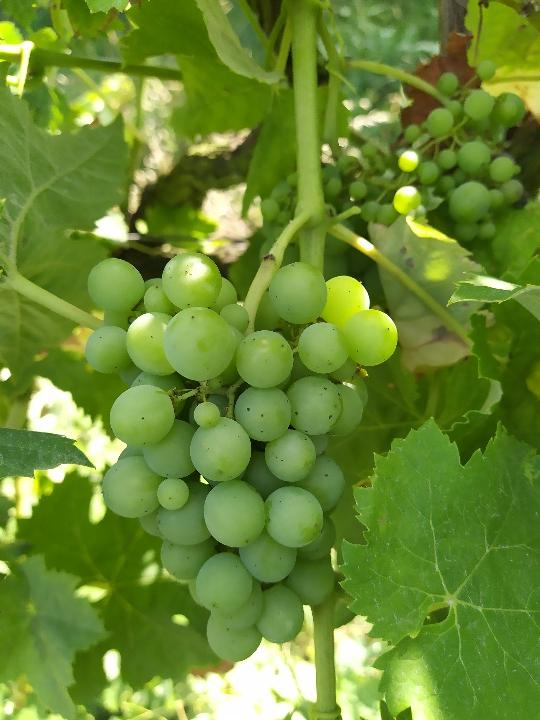grape: (83, 251, 400, 662)
